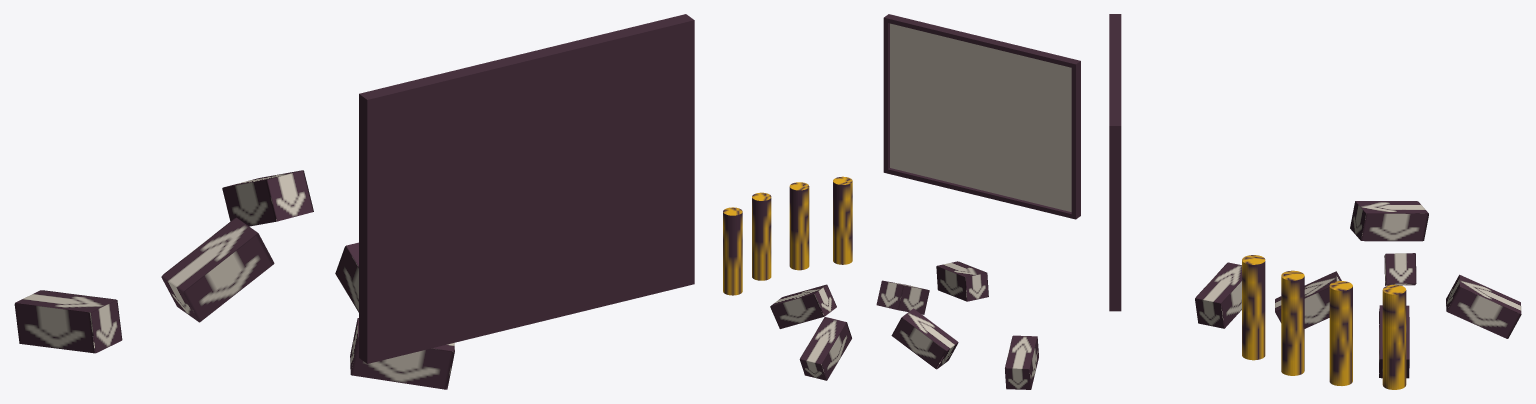
The model's file is arena_misc.obj.
3 views of the same model, side by side, from view 1: azimuth 30°, elevation 25°; view 2: azimuth 150°, elevation 25°; view 3: azimuth 270°, elevation 25° (orthographic). The views are drawn at different scales.
Parts seen in each view (by area): view 1: Cube.005_Cube.007, Cube.004_Cube.011, Cube.008_Cube.010, Cube.009_Cube.012, Cube.006_Cube.008, Cube.011_Cube.014; view 2: Cube.005_Cube.007, Cube.004_Cube.011, Cube.009_Cube.012, Cube.010_Cube.013, Cylinder.001_Cylinder.022, Cylinder.004_Cylinder.024, Cylinder.002, Cylinder.003_Cylinder.023, Cube.006_Cube.008, Cube.008_Cube.010, Cube.011_Cube.014; view 3: Cube.005_Cube.007, Cube.008_Cube.010, Cube.009_Cube.012, Cylinder.004_Cylinder.024, Cylinder.001_Cylinder.022, Cylinder.002, Cylinder.003_Cylinder.023, Cube.006_Cube.008, Cube.011_Cube.014, Cube.004_Cube.011, Cube.010_Cube.013.
Boxes of the visible parts, box(x1,y1,x2,y2) form: Cube.005_Cube.007: box(359, 14, 694, 363); Cube.004_Cube.011: box(161, 217, 274, 322); Cube.008_Cube.010: box(14, 290, 122, 353); Cube.009_Cube.012: box(222, 170, 313, 226); Cube.006_Cube.008: box(350, 318, 454, 389); Cube.011_Cube.014: box(335, 242, 358, 312); Cube.005_Cube.007: box(883, 14, 1080, 219); Cube.004_Cube.011: box(891, 308, 958, 369); Cube.009_Cube.012: box(799, 317, 851, 380); Cube.010_Cube.013: box(770, 284, 836, 328); Cylinder.001_Cylinder.022: box(789, 182, 809, 270); Cylinder.004_Cylinder.024: box(723, 207, 742, 295); Cylinder.002: box(833, 176, 852, 264); Cylinder.003_Cylinder.023: box(752, 192, 771, 280); Cube.006_Cube.008: box(936, 261, 988, 301); Cube.008_Cube.010: box(1005, 335, 1038, 389); Cube.011_Cube.014: box(876, 280, 929, 314); Cube.005_Cube.007: box(1109, 14, 1121, 311); Cube.008_Cube.010: box(1350, 201, 1428, 241); Cube.009_Cube.012: box(1446, 274, 1521, 338); Cylinder.004_Cylinder.024: box(1382, 284, 1406, 389); Cylinder.001_Cylinder.022: box(1281, 270, 1304, 375); Cylinder.002: box(1242, 255, 1265, 360); Cylinder.003_Cylinder.023: box(1329, 281, 1352, 385); Cube.006_Cube.008: box(1195, 262, 1241, 328); Cube.011_Cube.014: box(1275, 271, 1341, 328); Cube.004_Cube.011: box(1384, 253, 1416, 285); Cube.010_Cube.013: box(1379, 305, 1409, 378).
Size of the model in its own units: 836 by 556 by 792.
